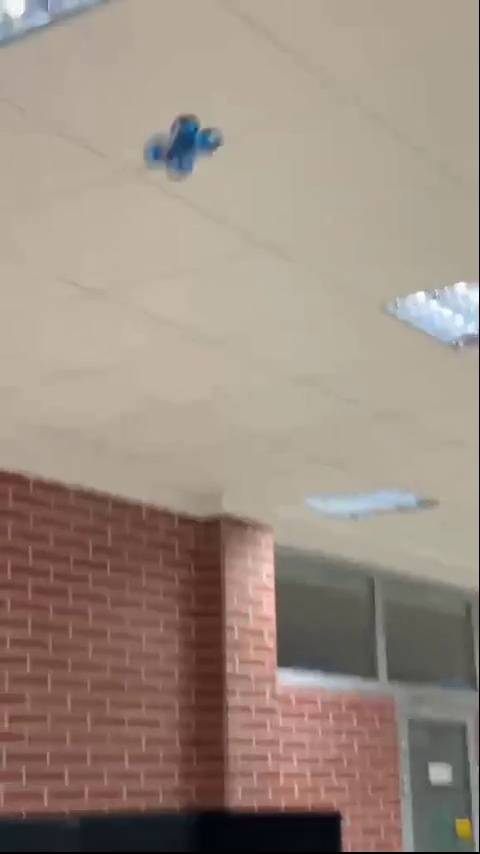drone: (144, 112, 221, 178)
